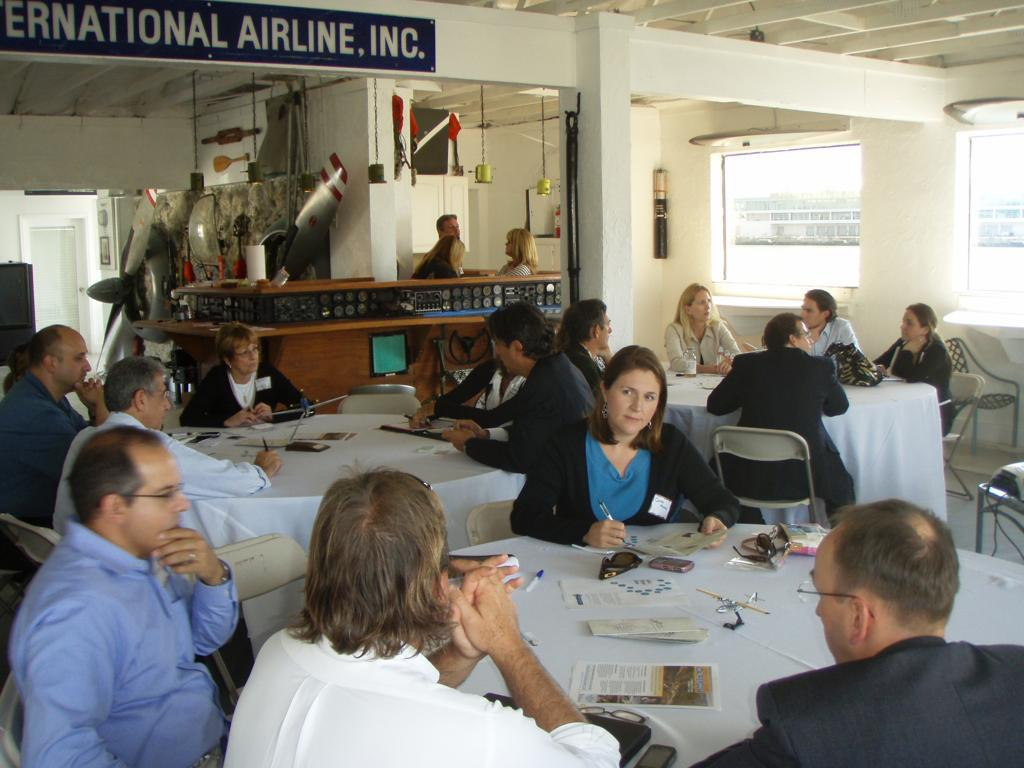face: (810, 550, 878, 666), (110, 465, 188, 553), (608, 374, 660, 435), (52, 333, 92, 390), (135, 375, 171, 428), (492, 334, 514, 375), (234, 341, 260, 373), (790, 323, 813, 355), (801, 300, 823, 328), (594, 313, 612, 347), (692, 293, 713, 321), (902, 313, 922, 342), (441, 220, 460, 242), (506, 236, 517, 255)
